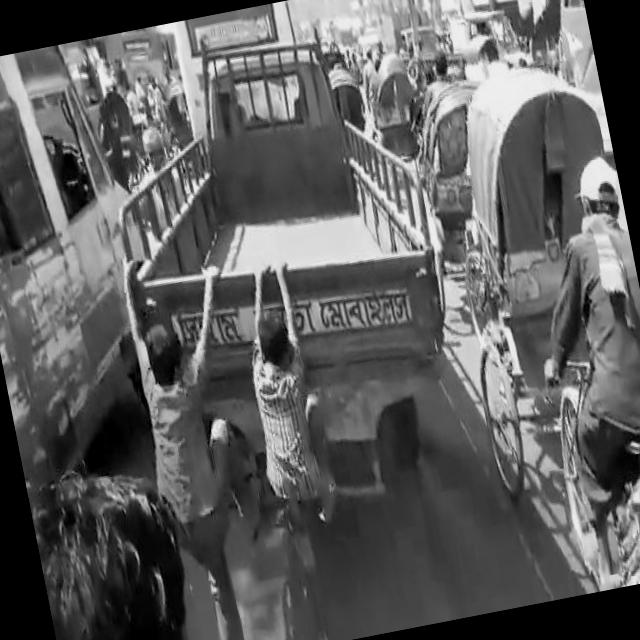bus: (0, 37, 184, 495), (168, 0, 319, 142), (114, 24, 180, 92)
motorcycle: (415, 47, 640, 504), (398, 76, 530, 344), (358, 45, 424, 164), (326, 55, 368, 135)
truck: (77, 0, 485, 554), (396, 19, 445, 70)
